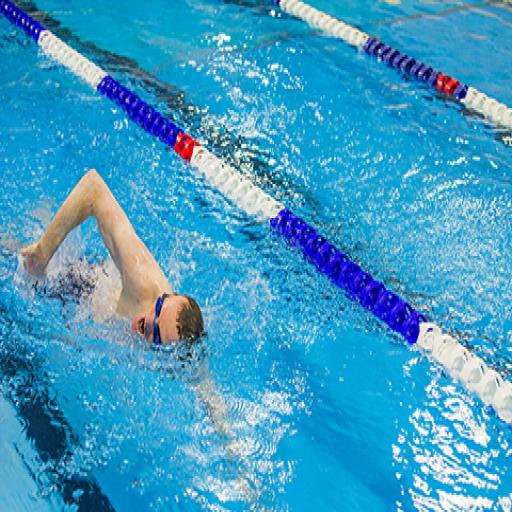swimming: (0, 121, 337, 438)
